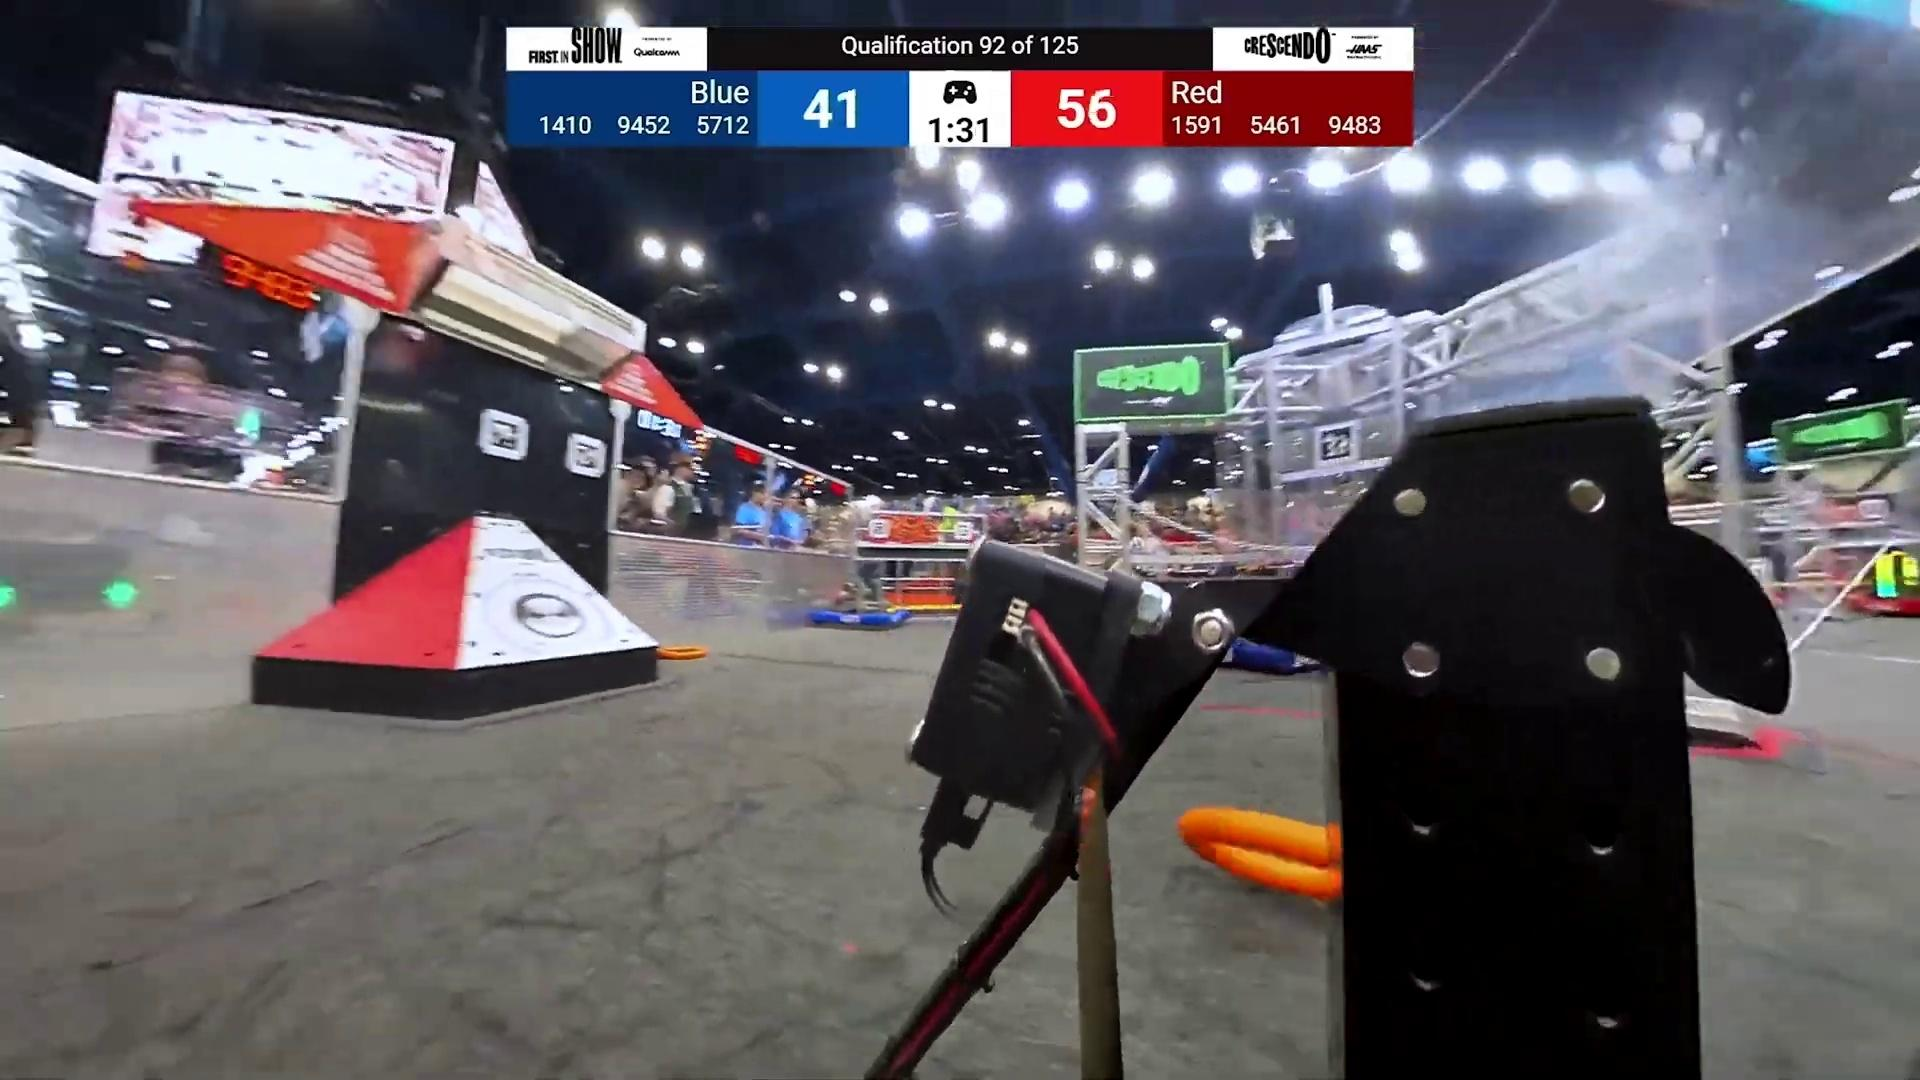robot: (808, 578, 909, 632), (1853, 553, 1920, 617), (1218, 641, 1325, 675)
